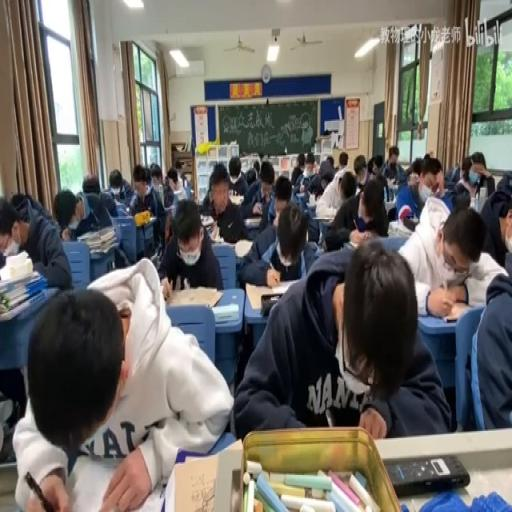calculator: (171, 453, 222, 512), (92, 471, 165, 512), (0, 289, 45, 320), (167, 286, 222, 308), (76, 225, 114, 240), (211, 302, 238, 322), (234, 238, 254, 256), (217, 235, 237, 250), (474, 189, 486, 212), (90, 246, 114, 257), (383, 196, 396, 214), (208, 223, 220, 242), (243, 215, 262, 226), (200, 213, 214, 225), (316, 212, 335, 220), (163, 200, 175, 212), (157, 183, 163, 205), (306, 195, 316, 206), (347, 240, 357, 249), (296, 191, 306, 199)
paper: (14, 258, 229, 509), (234, 240, 444, 440), (396, 196, 506, 319), (0, 192, 71, 292), (156, 199, 222, 293), (323, 170, 387, 252), (394, 155, 448, 222), (130, 162, 168, 252), (242, 169, 281, 235), (454, 150, 492, 200), (306, 154, 334, 198), (224, 154, 249, 202), (104, 168, 133, 209), (382, 145, 405, 189), (85, 192, 113, 228), (162, 165, 186, 206), (493, 170, 512, 204), (498, 209, 512, 250), (10, 192, 30, 218), (339, 172, 356, 202), (290, 152, 304, 186), (81, 172, 99, 194), (258, 162, 274, 186), (443, 162, 459, 186), (142, 165, 153, 195), (164, 214, 173, 244), (353, 154, 365, 176), (410, 158, 422, 178), (366, 156, 376, 180), (433, 170, 443, 194), (180, 170, 190, 188), (338, 152, 347, 171), (304, 156, 314, 170), (252, 159, 259, 178), (152, 175, 161, 188), (422, 150, 429, 160), (326, 155, 332, 165), (429, 148, 434, 158)
person: (386, 454, 470, 496), (260, 292, 283, 314), (230, 468, 242, 510), (402, 218, 418, 232), (443, 314, 458, 322)
